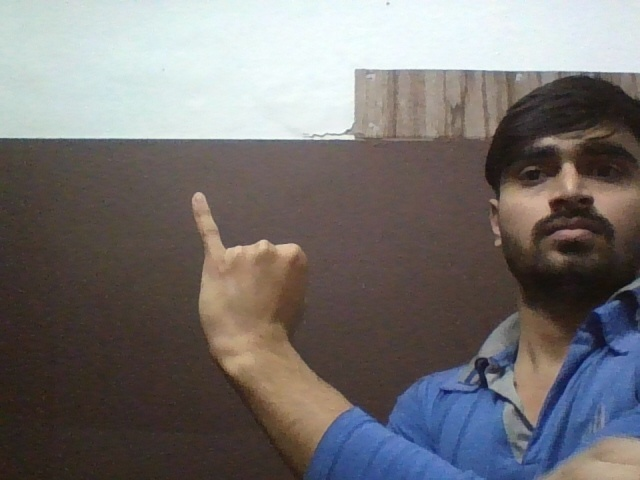J: (190, 187, 327, 347)
